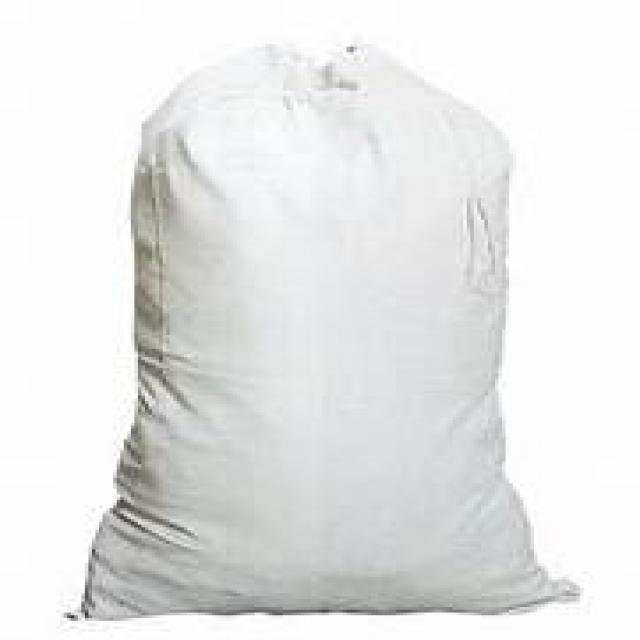gunny_bag: (83, 32, 605, 622)
